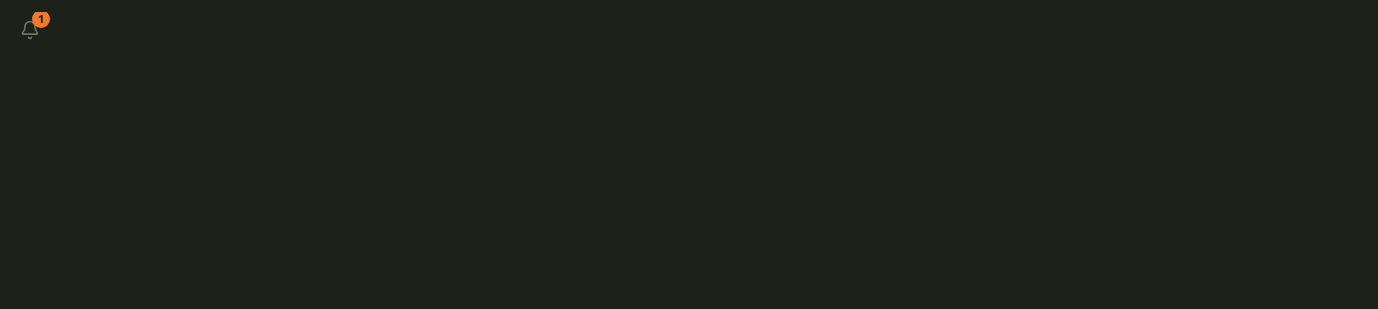
Test case: NotificationBell panel › closes on Escape and returns focus to the button
Click the button named "Notifications, 1 unread": (30, 30) x1=12 y1=12 x2=48 y2=48
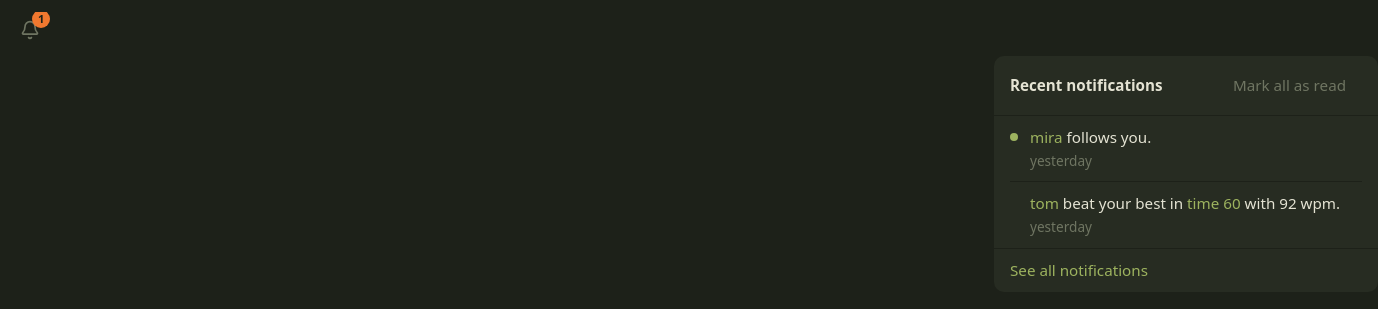
expect the element "Recent notifications" is shown: met, box x1=994 y1=56 x2=1377 y2=292
Press Escape
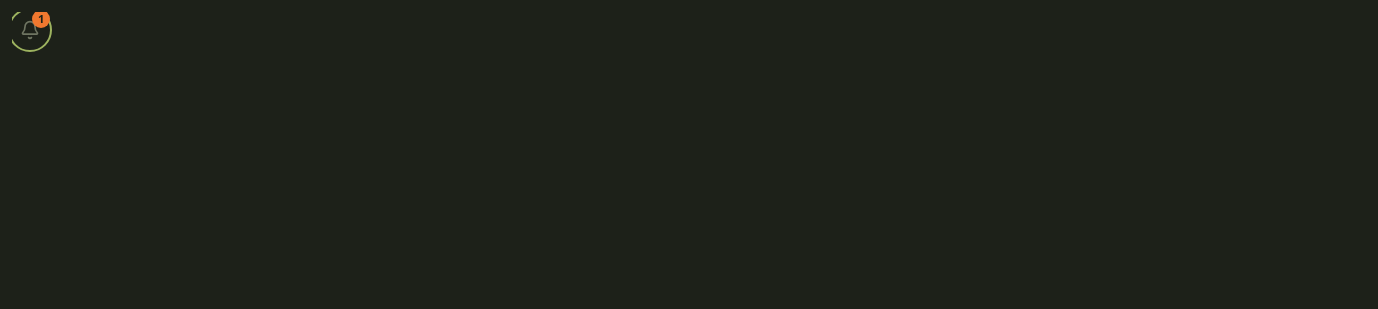
expect the heading "Recent notifications" is gone: met
